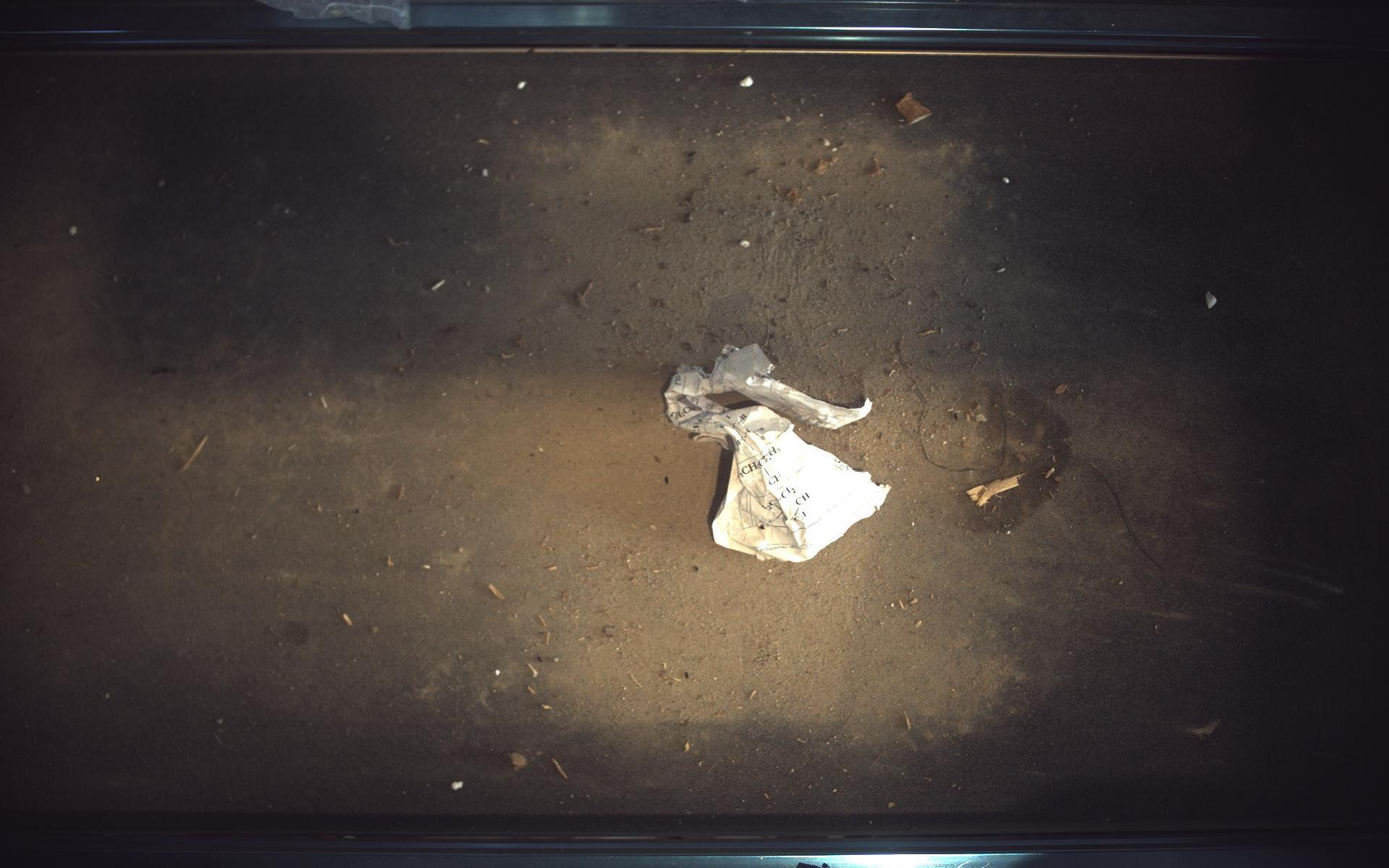general_w: (666, 344, 891, 563)
